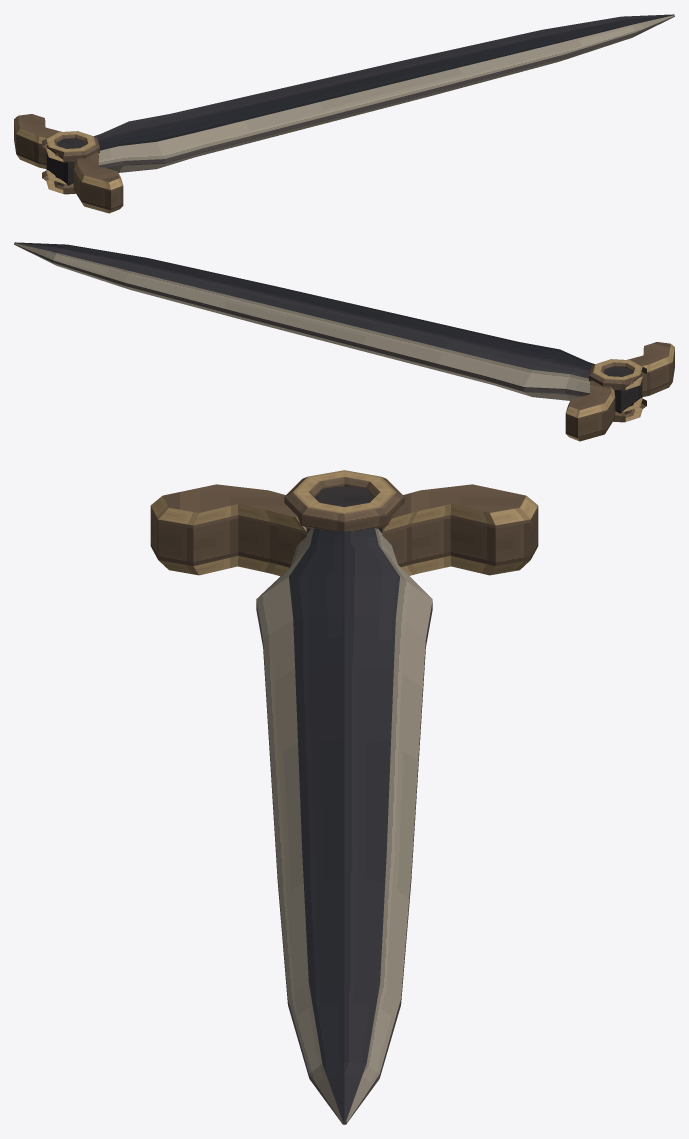
File: bench_qingxiao_liuyun_sword_4.obj
3 renders of one model, top to bottom at view 1: azimuth 30°, elevation 25°; view 2: azimuth 150°, elevation 25°; view 3: azimuth 270°, elevation 25°, orthographic. The views are drawn at different scales.
Visible parts, largest first — view 1: geometry; view 2: geometry; view 3: geometry.
Boxes of the visible parts, bbox=[...] form: geometry: bbox=[14, 14, 674, 213]; geometry: bbox=[14, 242, 674, 441]; geometry: bbox=[150, 470, 538, 1124].
Size of the model in its own units: 0.75 by 0.0484 by 0.2013.
